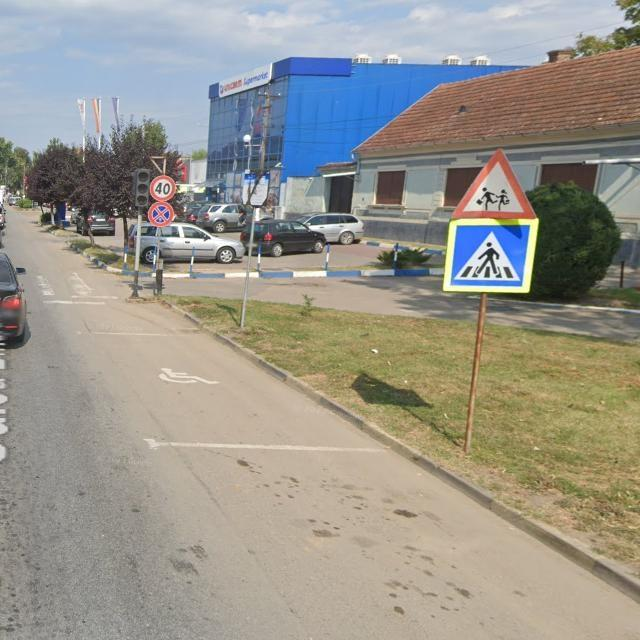forb_speed_over_40: (150, 175, 175, 202)
forb_waiting: (148, 202, 175, 226)
info_crosswalk: (442, 217, 538, 293)
